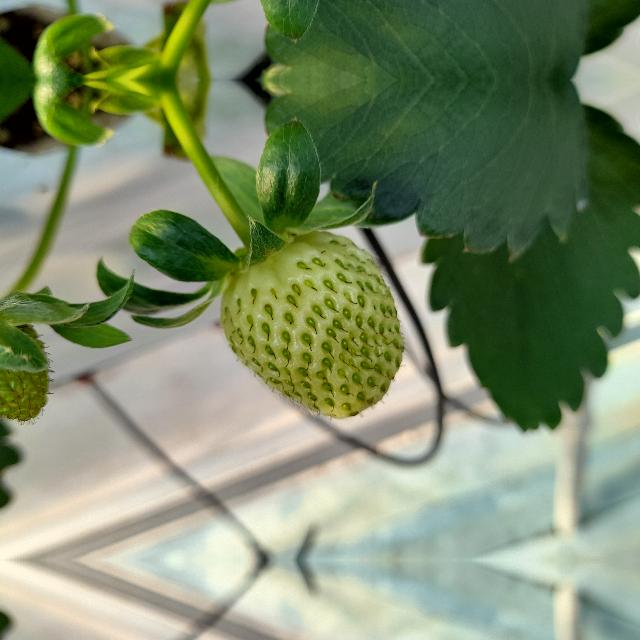Health_25: (219, 230, 407, 422), (0, 321, 58, 422)
